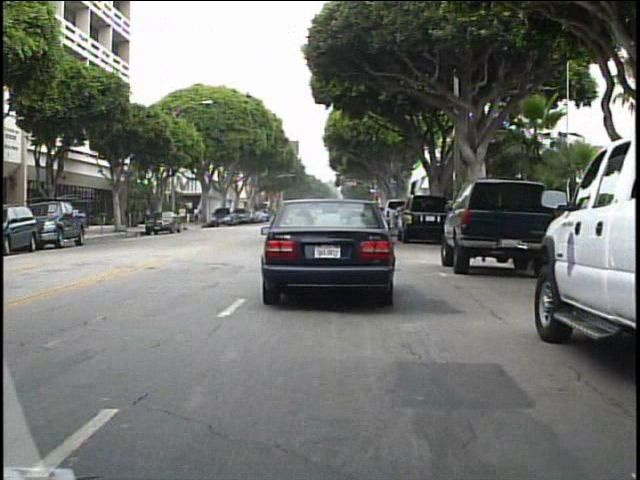person: (177, 202, 190, 227), (193, 202, 203, 226)
